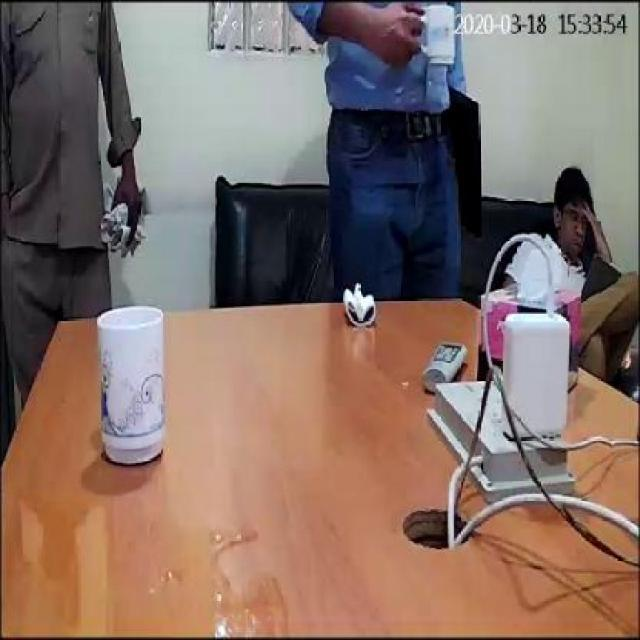spill: (58, 494, 288, 634)
